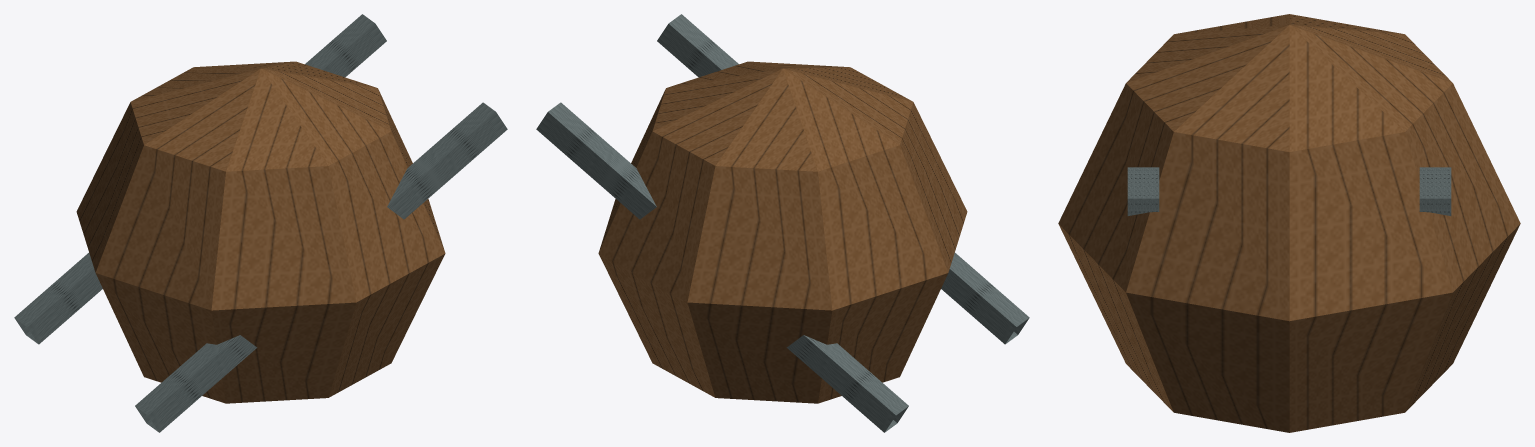
Rendered from military-FLAME_BALL-1-lod2.glb.
3 views of the same model, side by side, from view 1: azimuth 30°, elevation 25°; view 2: azimuth 150°, elevation 25°; view 3: azimuth 270°, elevation 25° (orthographic). The views are drawn at different scales.
Size of the model in its own units: 0.4134 by 0.36 by 0.38.
Materials: 1 (1 with a texture image).
